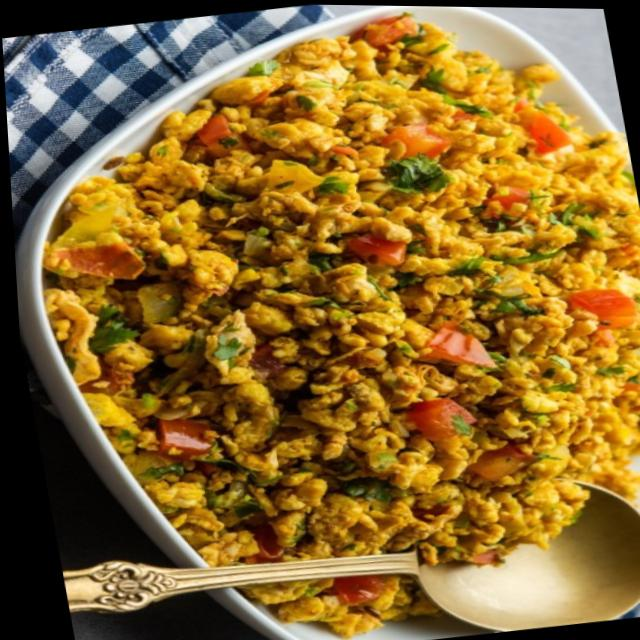EGG: (51, 19, 640, 564)
